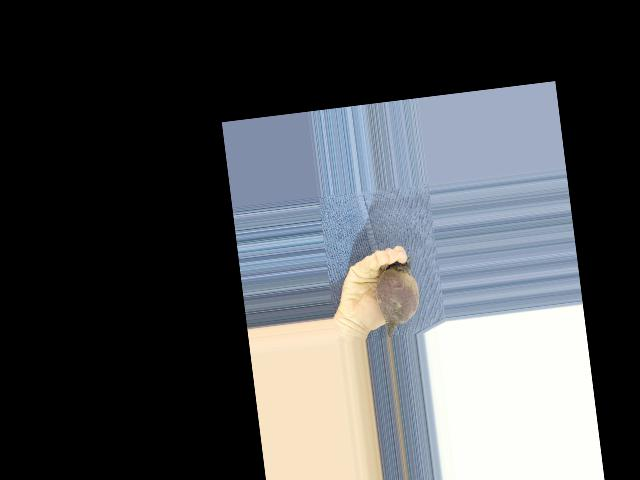beet: (371, 255, 423, 337)
